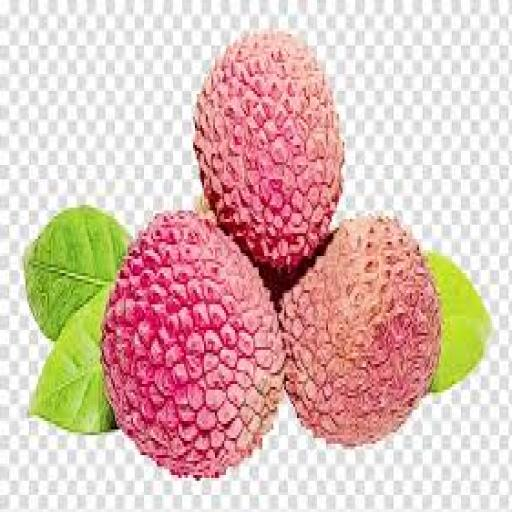lychee: (103, 214, 284, 477), (281, 220, 440, 446), (194, 32, 344, 270)
